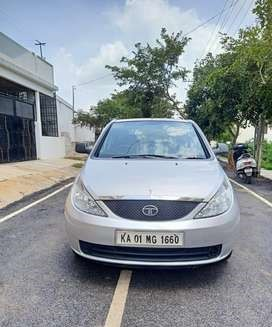KA01MG1660: (116, 231, 182, 246)
